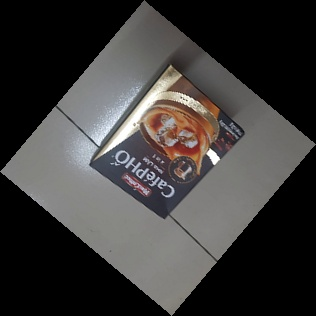CF pho: (88, 61, 245, 220)
